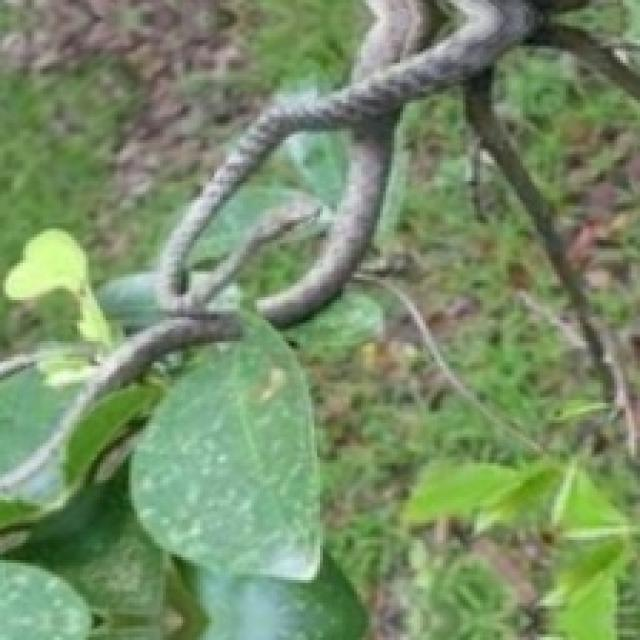philippine whip snake: (0, 0, 637, 491)
